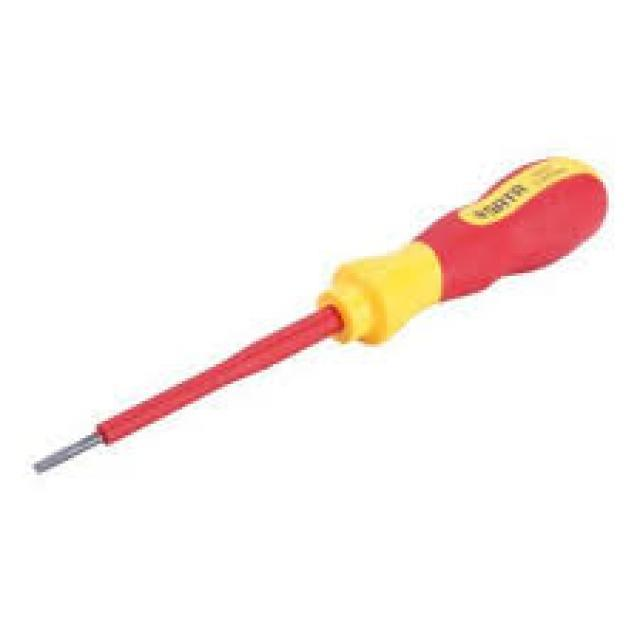screwdriver: (30, 150, 613, 477)
